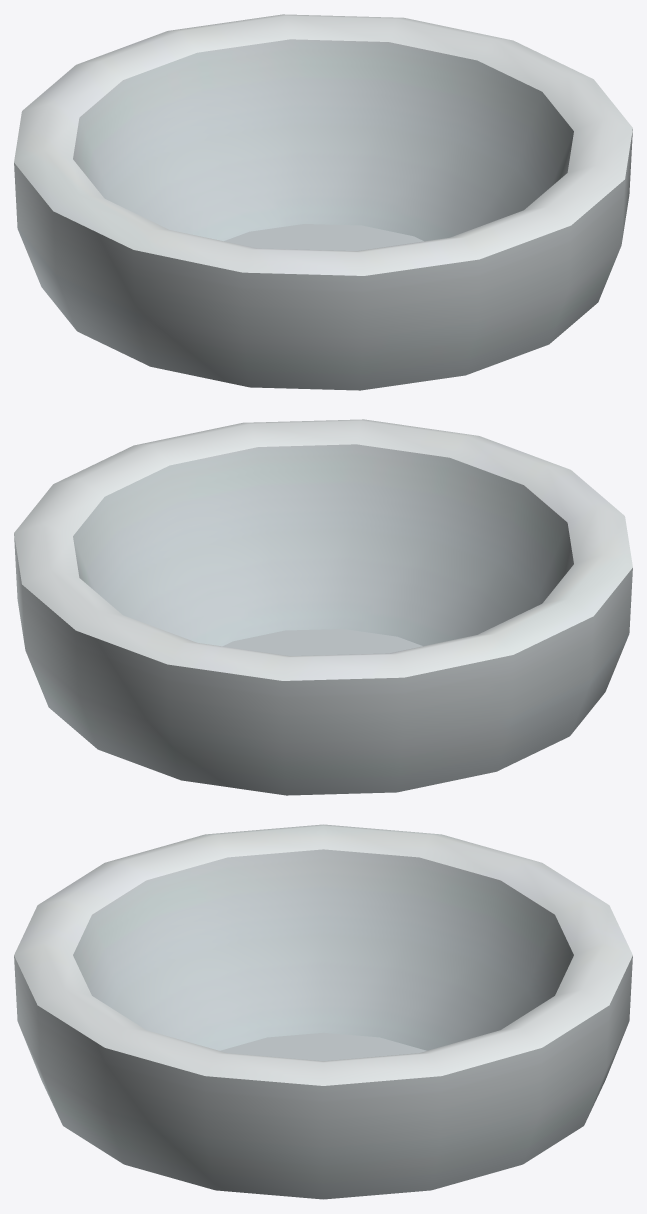
Rendered from bowl.glb.
The picture shows the model from 3 angles, top to bottom: view 1: azimuth 30°, elevation 25°; view 2: azimuth 150°, elevation 25°; view 3: azimuth 270°, elevation 25°; orthographic projection.
Visible parts, largest first — view 1: bowl; view 2: bowl; view 3: bowl.
Part boxes in pixels (x1,y1,x2,y2): bowl: (14, 14, 632, 390); bowl: (14, 419, 632, 795); bowl: (14, 824, 632, 1199).
Size of the model in its own units: 0.95 by 0.3 by 0.95.
1 material, 1 textured.
